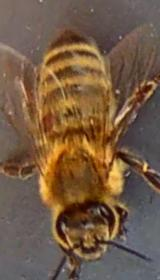varroa_mite: (35, 105, 57, 139)
